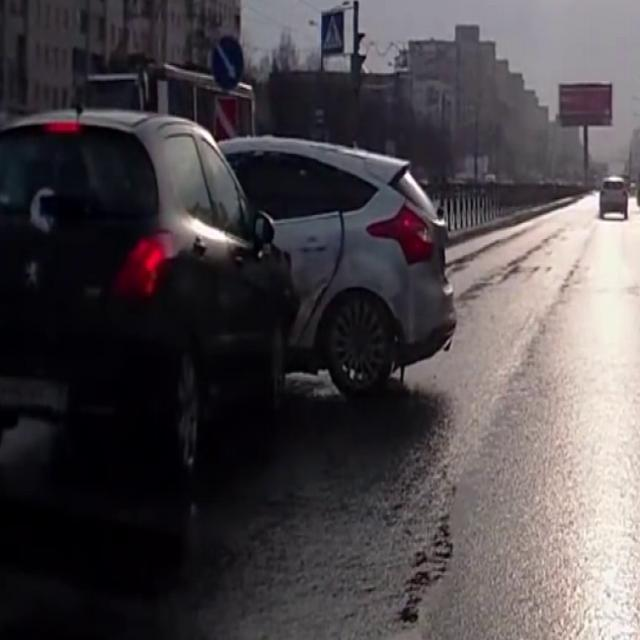accident: (42, 77, 470, 469)
